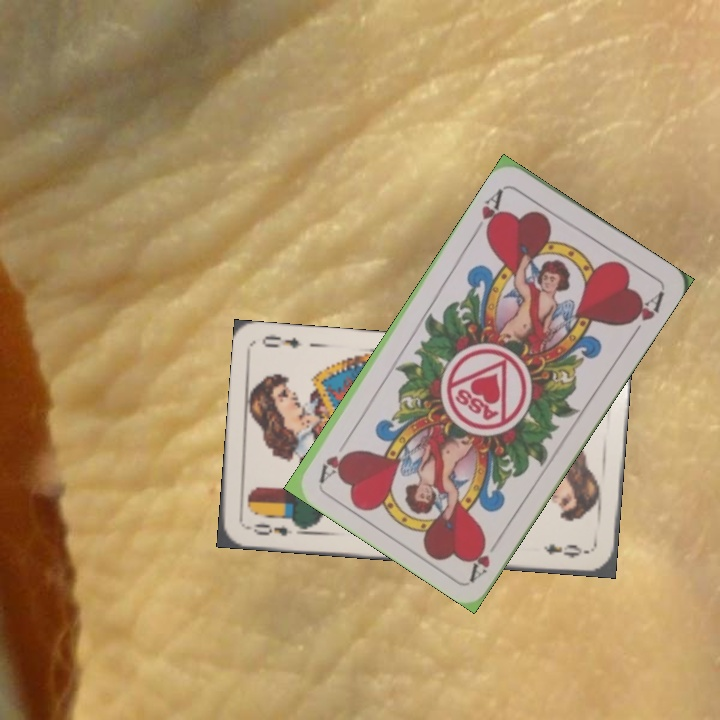EO: (243, 519, 295, 539)
HA: (470, 184, 509, 241), (466, 529, 506, 583)
